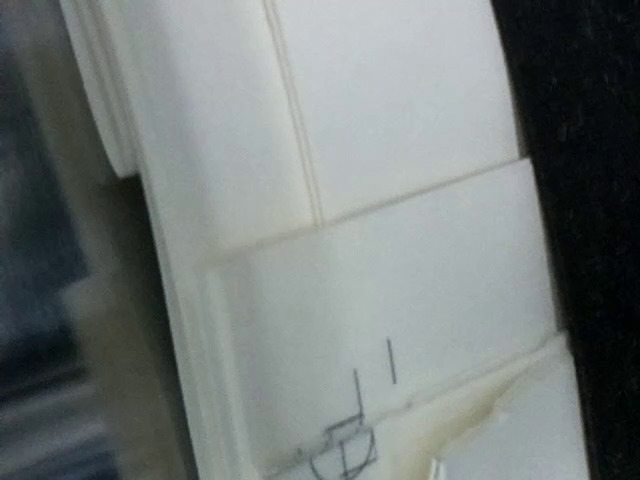misaligned: (267, 366, 382, 479)
